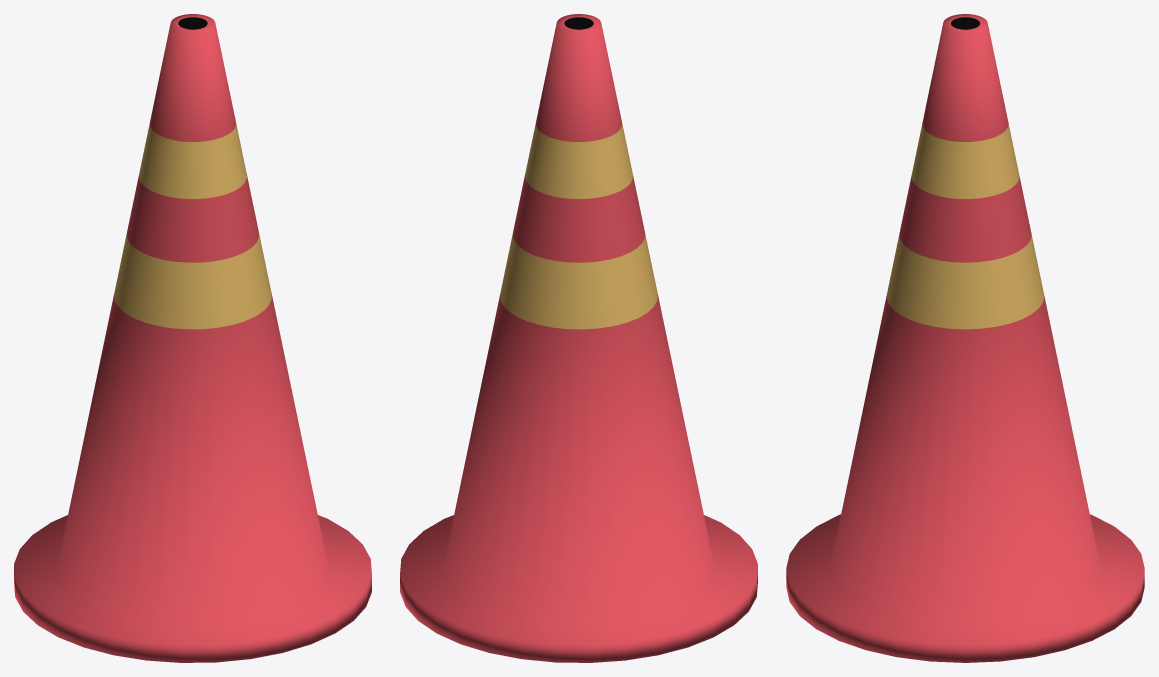
3 views of the same model, side by side, from view 1: azimuth 30°, elevation 25°; view 2: azimuth 150°, elevation 25°; view 3: azimuth 270°, elevation 25° (orthographic).
Visible parts, largest first — view 1: cone; view 2: cone; view 3: cone.
Boxes of the visible parts, bbox=[...] form: cone: bbox=[14, 14, 371, 662]; cone: bbox=[400, 14, 757, 662]; cone: bbox=[786, 14, 1144, 662].
Size of the model in its own units: 2 by 3.47 by 2.
